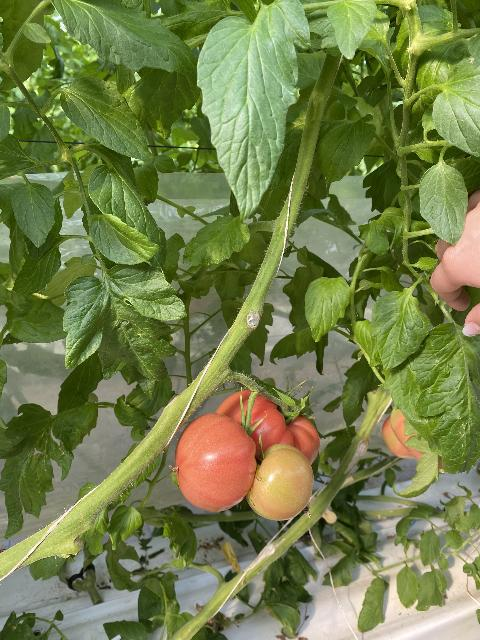b_fully_ripened: (215, 389, 321, 469)
b_half_ripened: (175, 412, 257, 511), (245, 444, 315, 520)
